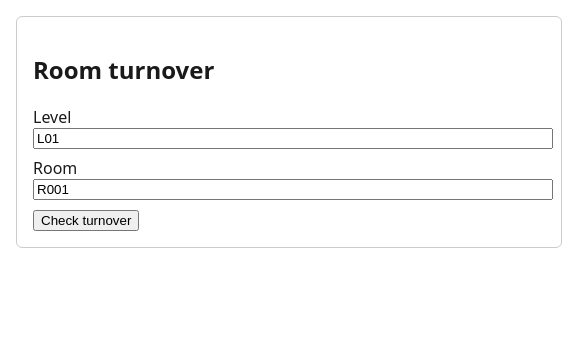
it: TurnoverPanel › shows the refusal, naming the blocking item, when turnover is blocked
Step 1. Click the button "Check turnover" → {"x": 86, "y": 220}, box [33,210,139,231]
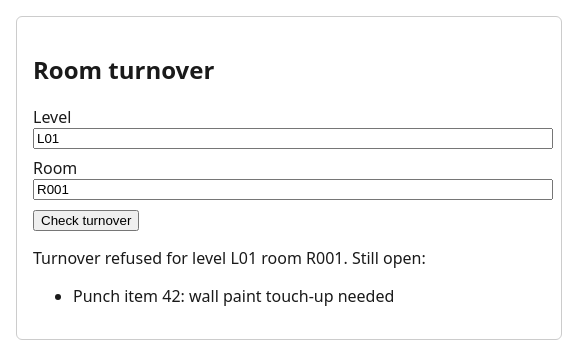
Check: the element with test id "turnover-blocked" is shown, box [33,247,426,307]
Check: the list item "Punch item 42: wall paint touch-up needed" is shown, box [73,285,394,307]
